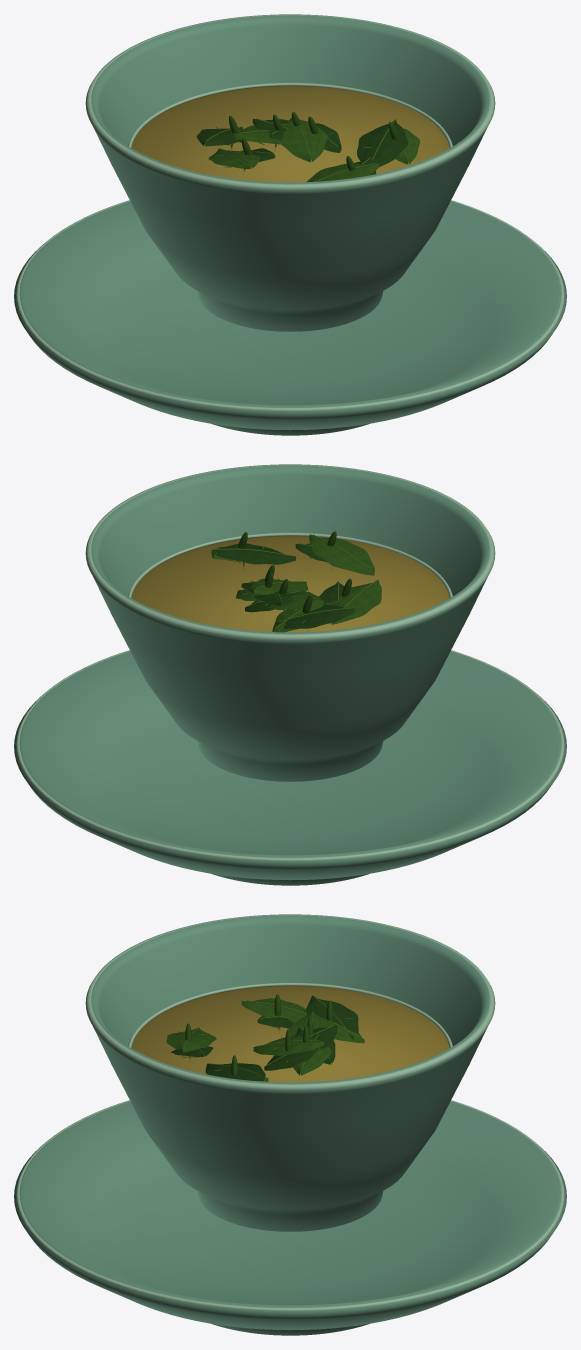
The model's file is tea.glb.
3 renders of one model, top to bottom at view 1: azimuth 30°, elevation 25°; view 2: azimuth 150°, elevation 25°; view 3: azimuth 270°, elevation 25°, orthographic.
Visible parts, largest first — view 1: 盏托一体成形, 茶盏陶瓷连续体, 澄黄液面, 青釉薄口沿, 托盘口沿亮线, 舒展茶叶.005, 清晰液面弯月边界, 舒展茶叶, 舒展茶叶.002, 舒展茶叶.004, 舒展茶叶.001; view 2: 盏托一体成形, 茶盏陶瓷连续体, 澄黄液面, 青釉薄口沿, 托盘口沿亮线, 舒展茶叶.002, 清晰液面弯月边界, 舒展茶叶.005, 舒展茶叶.004, 舒展茶叶.001, 舒展茶叶; view 3: 盏托一体成形, 茶盏陶瓷连续体, 澄黄液面, 青釉薄口沿, 托盘口沿亮线, 清晰液面弯月边界, 舒展茶叶.001, 舒展茶叶.004, 舒展茶叶, 舒展茶叶.005, 舒展茶叶.002, 另一片舒展茶叶.
Boxes of the visible parts, <box> form: 盏托一体成形: <box>14,201,566,435</box>; 茶盏陶瓷连续体: <box>91,15,489,331</box>; 澄黄液面: <box>131,85,449,182</box>; 青釉薄口沿: <box>85,14,495,189</box>; 托盘口沿亮线: <box>16,200,564,411</box>; 舒展茶叶.005: <box>357,119,408,166</box>; 清晰液面弯月边界: <box>128,82,452,147</box>; 舒展茶叶: <box>281,118,327,162</box>; 舒展茶叶.002: <box>306,163,379,181</box>; 舒展茶叶.004: <box>208,148,260,169</box>; 舒展茶叶.001: <box>196,127,242,146</box>; 盏托一体成形: <box>14,651,566,885</box>; 茶盏陶瓷连续体: <box>91,465,489,781</box>; 澄黄液面: <box>131,535,449,632</box>; 青釉薄口沿: <box>85,464,495,639</box>; 托盘口沿亮线: <box>16,650,564,861</box>; 舒展茶叶.002: <box>309,534,374,575</box>; 清晰液面弯月边界: <box>128,532,452,597</box>; 舒展茶叶.005: <box>211,543,295,564</box>; 舒展茶叶.004: <box>328,580,381,624</box>; 舒展茶叶.001: <box>275,605,355,628</box>; 舒展茶叶: <box>252,578,307,594</box>; 盏托一体成形: <box>14,1101,566,1335</box>; 茶盏陶瓷连续体: <box>91,915,489,1231</box>; 澄黄液面: <box>131,985,449,1082</box>; 青釉薄口沿: <box>85,914,495,1089</box>; 托盘口沿亮线: <box>16,1100,564,1311</box>; 清晰液面弯月边界: <box>128,982,452,1047</box>; 舒展茶叶.001: <box>305,995,358,1039</box>; 舒展茶叶.004: <box>241,998,307,1023</box>; 舒展茶叶: <box>253,1036,324,1055</box>; 舒展茶叶.005: <box>205,1063,265,1080</box>; 舒展茶叶.002: <box>166,1027,216,1052</box>; 另一片舒展茶叶: <box>264,1048,318,1070</box>.
Size of the model in its own units: 2.7 by 1.53 by 2.7.
Materials: 8 (6 with a texture image).
